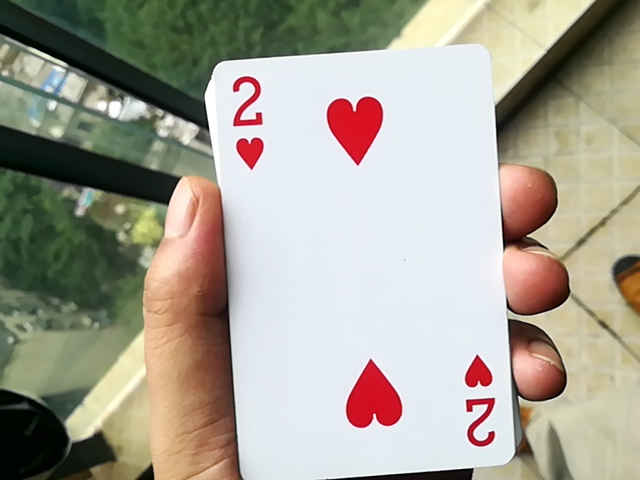hx 2: (190, 44, 520, 478)
